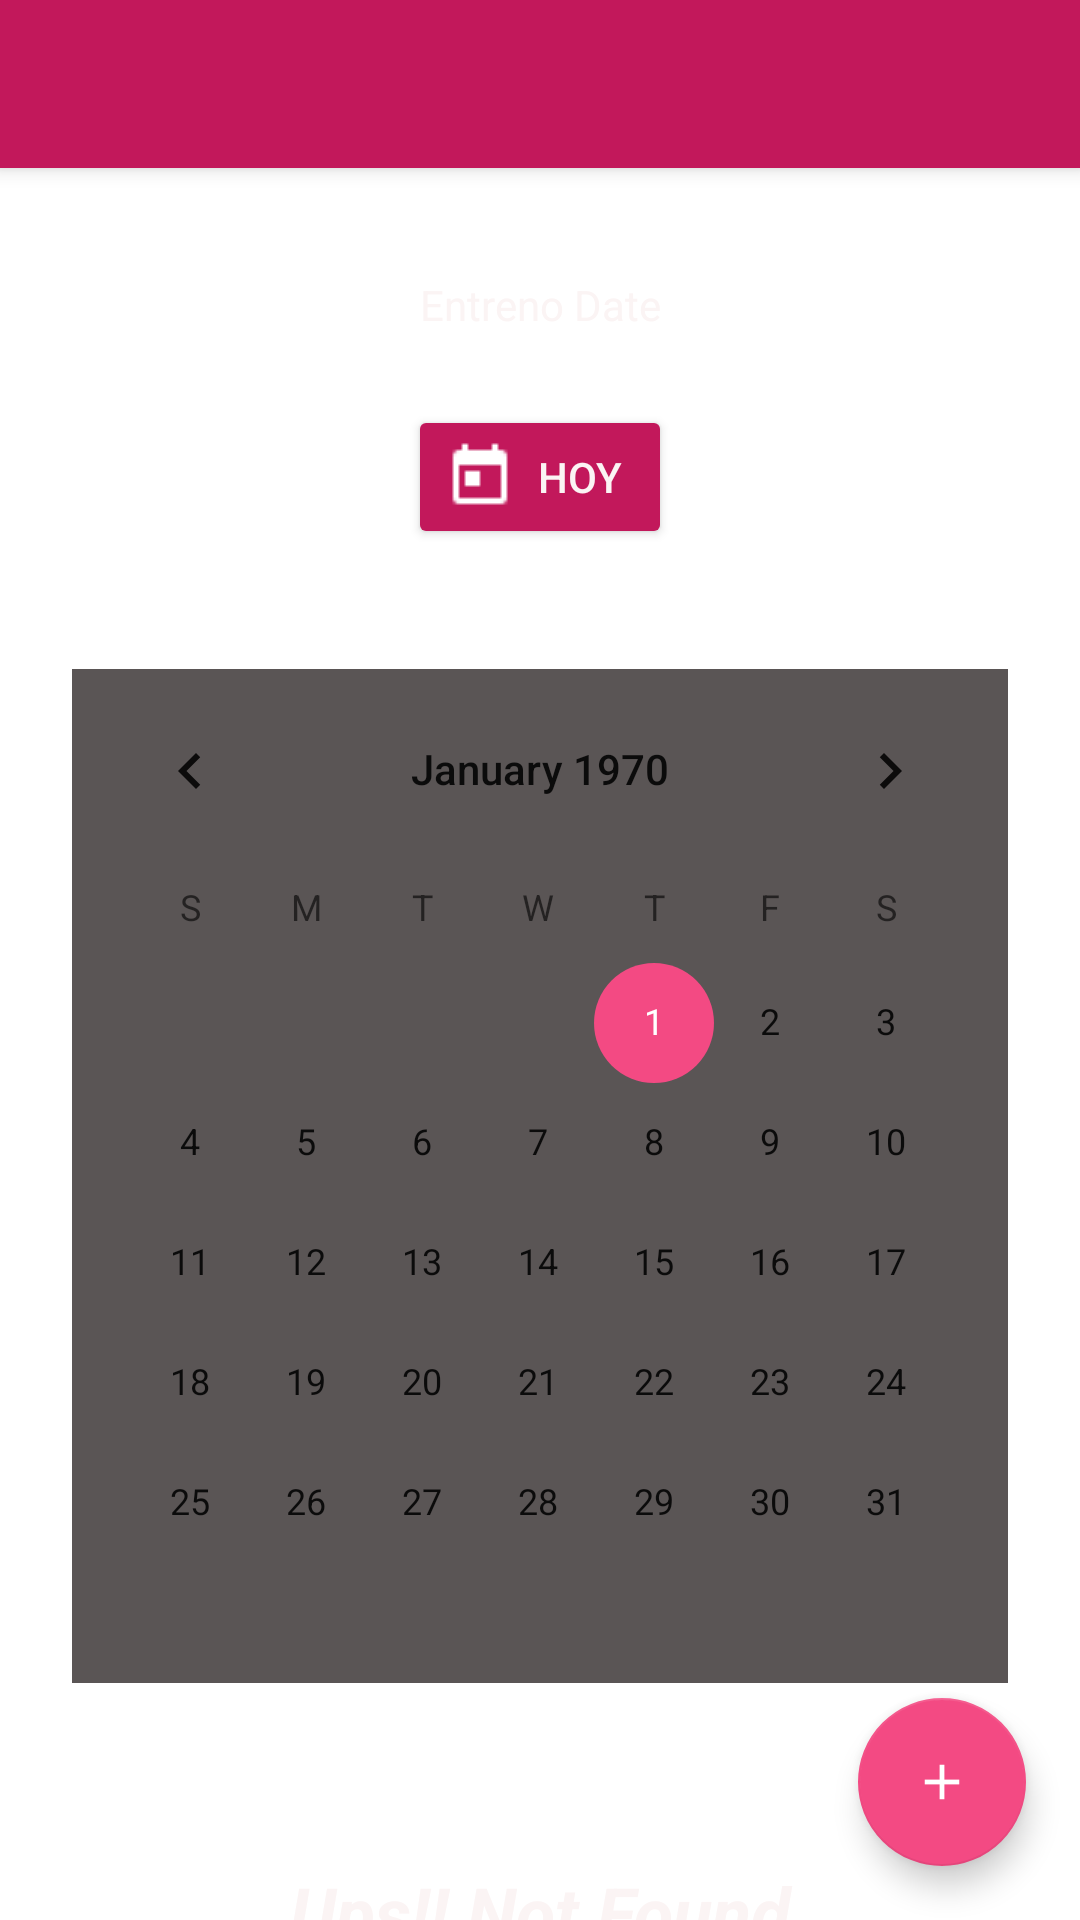

Icons on this 1080 x 1920 Android screen, each with its box as (x1, y1, x2, y2):
plus: (858, 1698, 1026, 1866)
